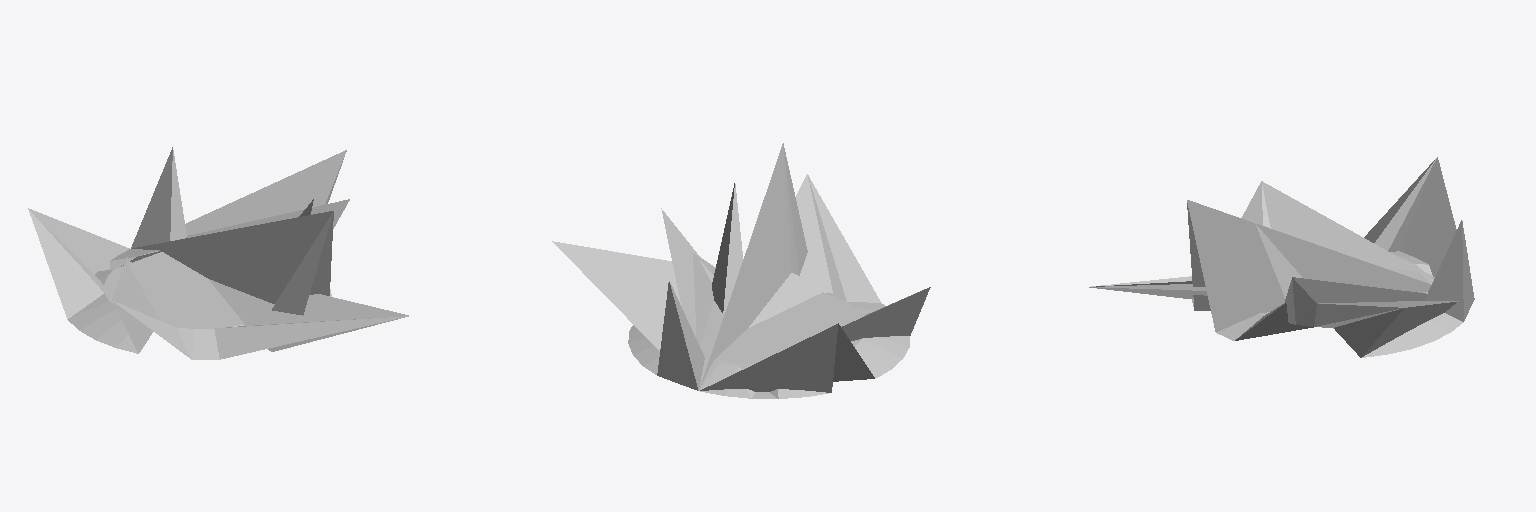
The model's file is Platform5-idklolhehehe.obj.
3 renders of one model, left to right at view 1: azimuth 30°, elevation 25°; view 2: azimuth 150°, elevation 25°; view 3: azimuth 270°, elevation 25°, orthographic.
Parts seen in each view (by area): view 1: Cylinder; view 2: Cylinder; view 3: Cylinder.
Part boxes in pixels (bbox=[...]): Cylinder: bbox=[28, 147, 408, 359]; Cylinder: bbox=[552, 143, 930, 398]; Cylinder: bbox=[1089, 157, 1474, 357].
Bounding box in the file's own units: 50.19 × 22.44 × 55.04.